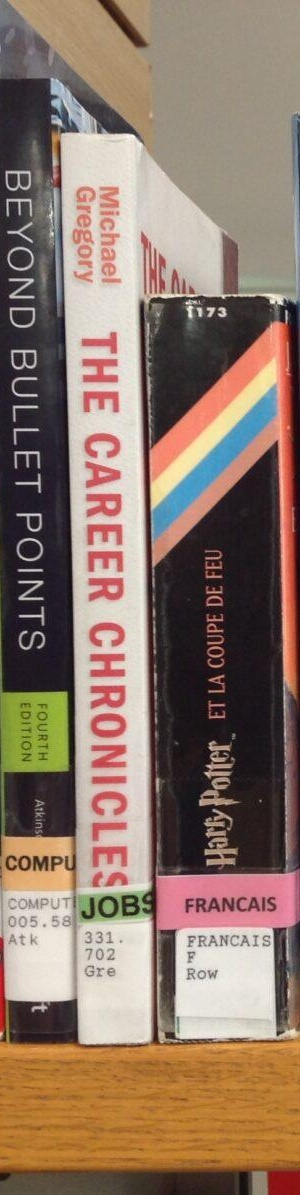call_number: (167, 910, 286, 1040), (74, 916, 154, 1033), (4, 891, 71, 996)
